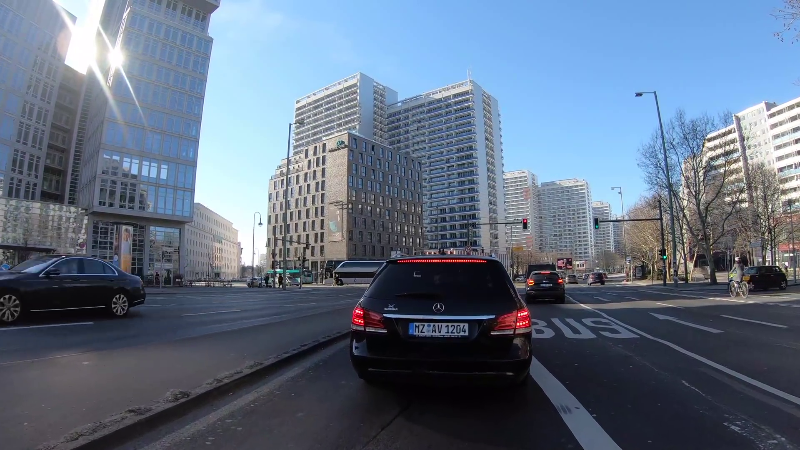Plate: (404, 320, 472, 341)
